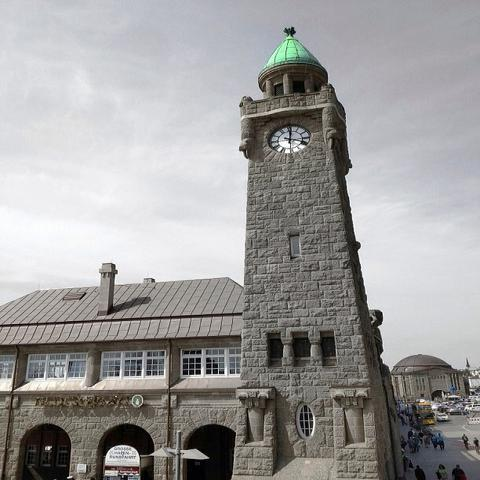car: (444, 408, 470, 416), (464, 404, 479, 412), (437, 413, 450, 421)
